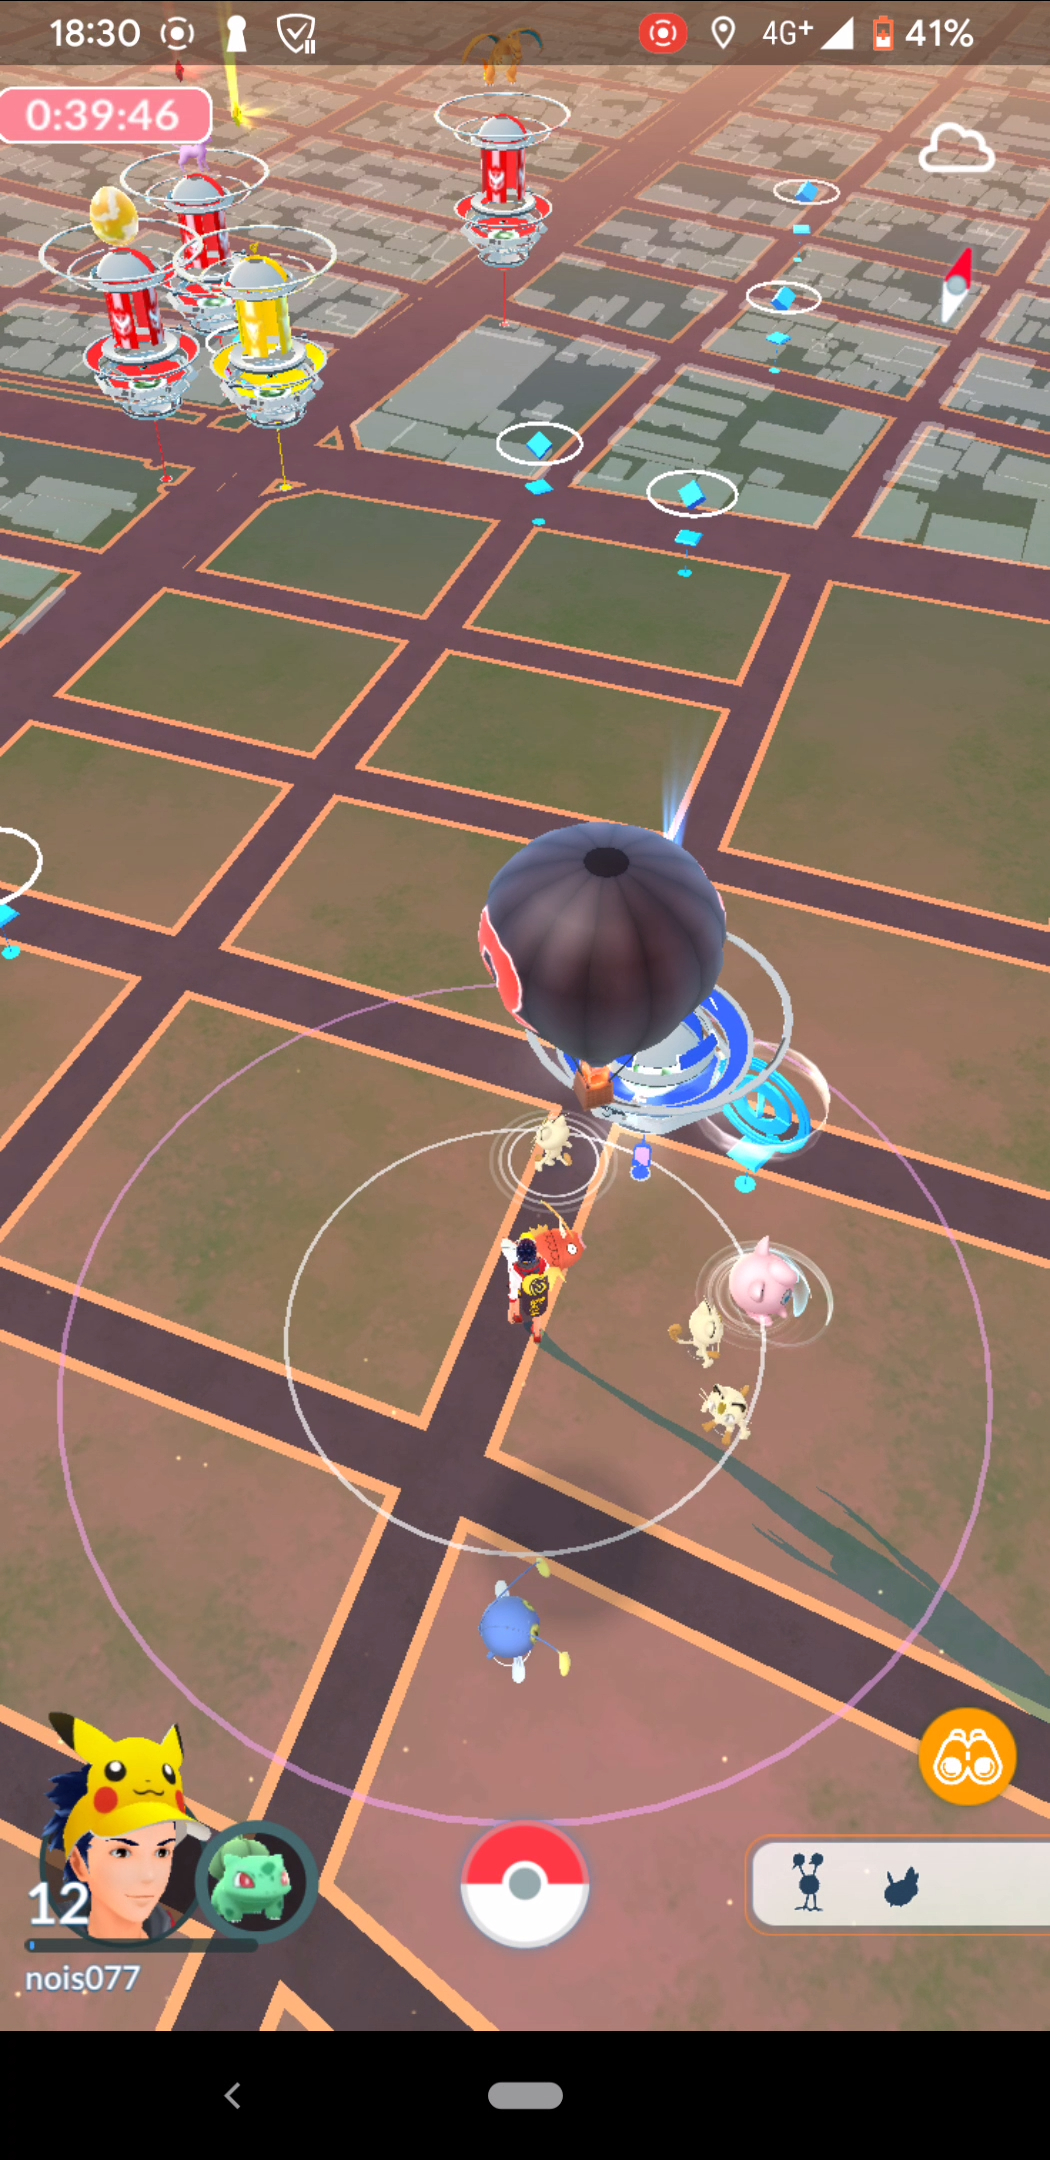pokestop: (723, 1066, 819, 1159)
